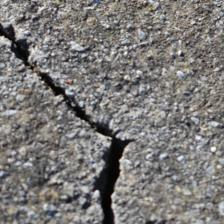Crack: (28, 22, 112, 198), (72, 0, 188, 86)
